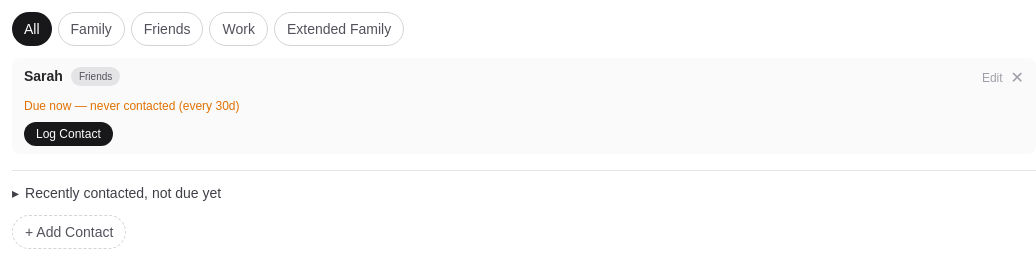
it: ContactsCardBody › removes a contact from the due list immediately after logging it
This screenshot has width=1036, height=266.
Check: the text "Sarah" is shown, box [24,66,63,86]
Click the button "Log Contact". click: (68,134)
box: [24,122,113,146]
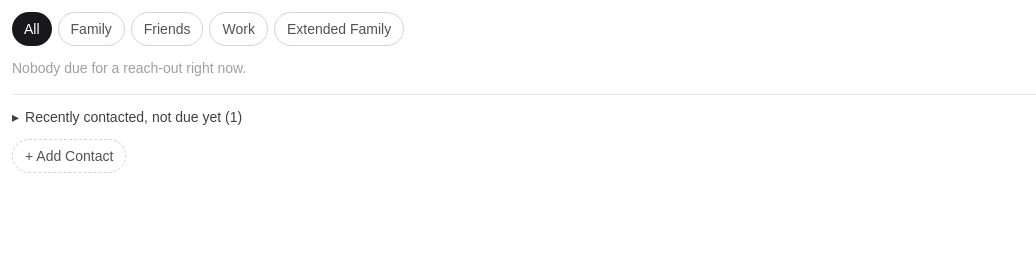
Check: the text "Nobody due for a reach-out right now." is shown, box [12,60,246,76]
